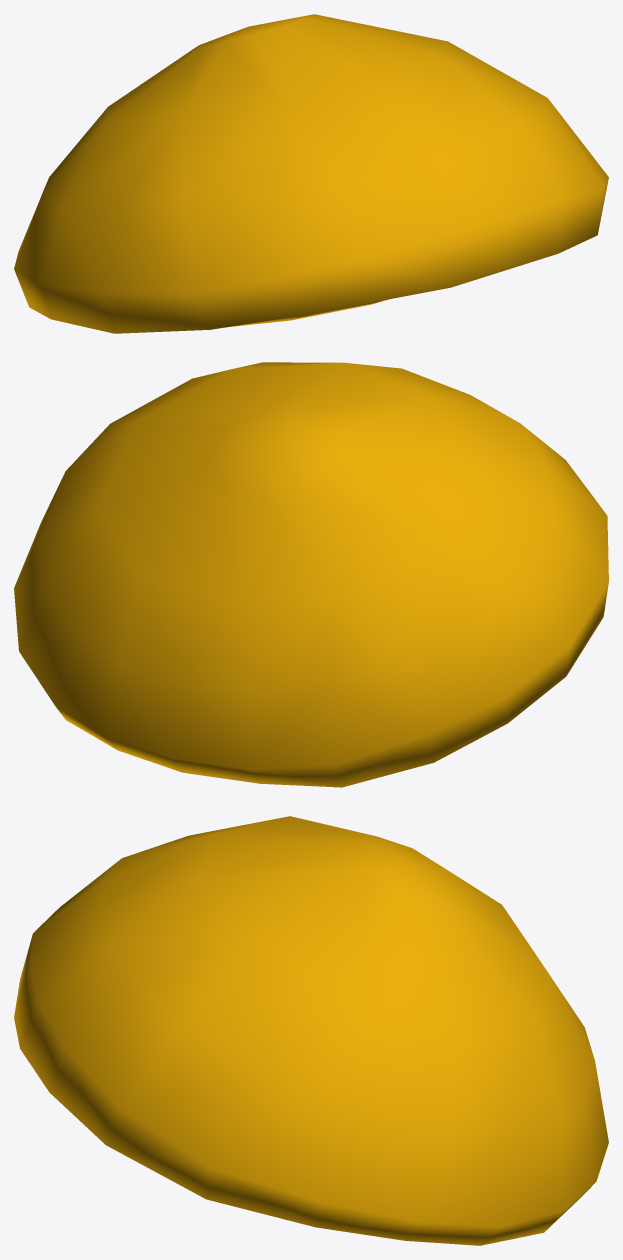
Rendered from geo_NPC01.fbx.
The picture shows the model from 3 angles, top to bottom: view 1: azimuth 30°, elevation 25°; view 2: azimuth 150°, elevation 25°; view 3: azimuth 270°, elevation 25°; orthographic projection. The views are drawn at different scales.
Parts seen in each view (by area): view 1: geo_NpcCap_01_L; view 2: geo_NpcCap_01_L; view 3: geo_NpcCap_01_L.
Part boxes in pixels (<box>): geo_NpcCap_01_L: <box>14,14,608,333</box>; geo_NpcCap_01_L: <box>14,362,608,787</box>; geo_NpcCap_01_L: <box>14,816,608,1245</box>.
Size of the model in its own units: 126 by 65.48 by 113.
